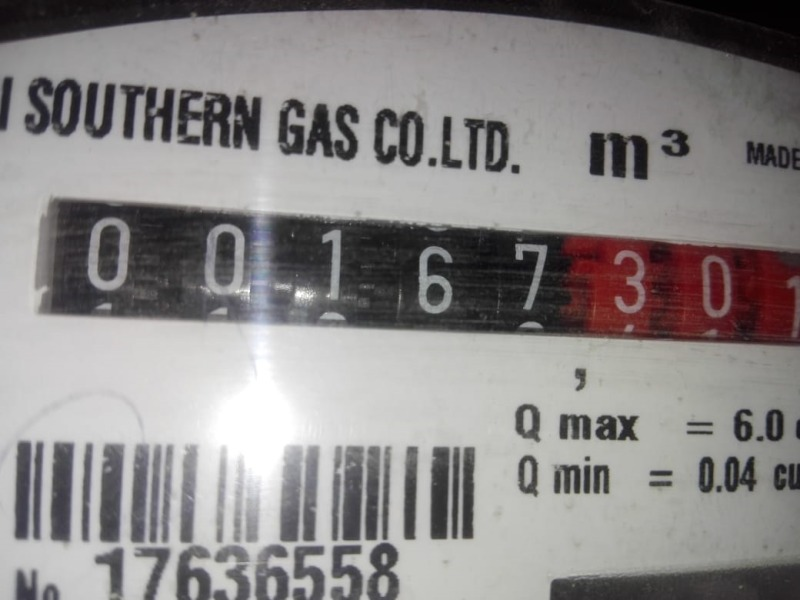ssgc: (39, 189, 797, 352)
